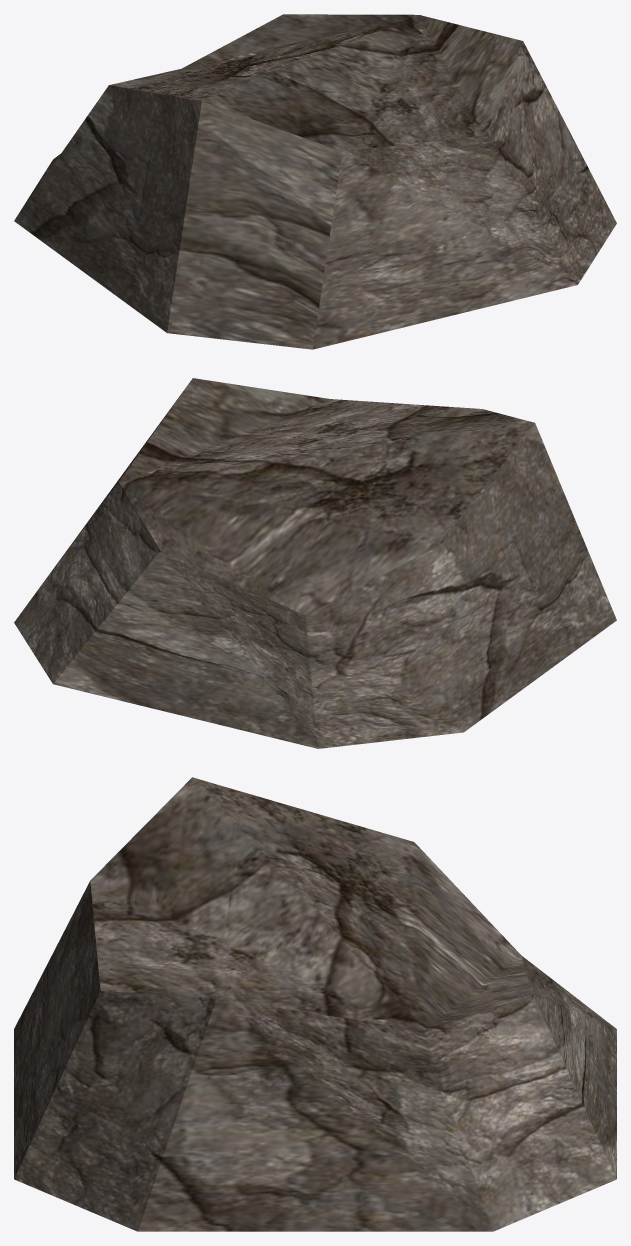
Rendered from smallWall.obj.
The picture shows the model from 3 angles, top to bottom: view 1: azimuth 30°, elevation 25°; view 2: azimuth 150°, elevation 25°; view 3: azimuth 270°, elevation 25°; orthographic projection. The views are drawn at different scales.
Parts seen in each view (by area): view 1: Cube; view 2: Cube; view 3: Cube.
Part boxes in pixels (<box>): Cube: <box>14,14,616,349</box>; Cube: <box>14,378,616,748</box>; Cube: <box>14,777,616,1231</box>.
Size of the model in its own units: 2 by 0.8516 by 2.
1 material, 1 textured.
